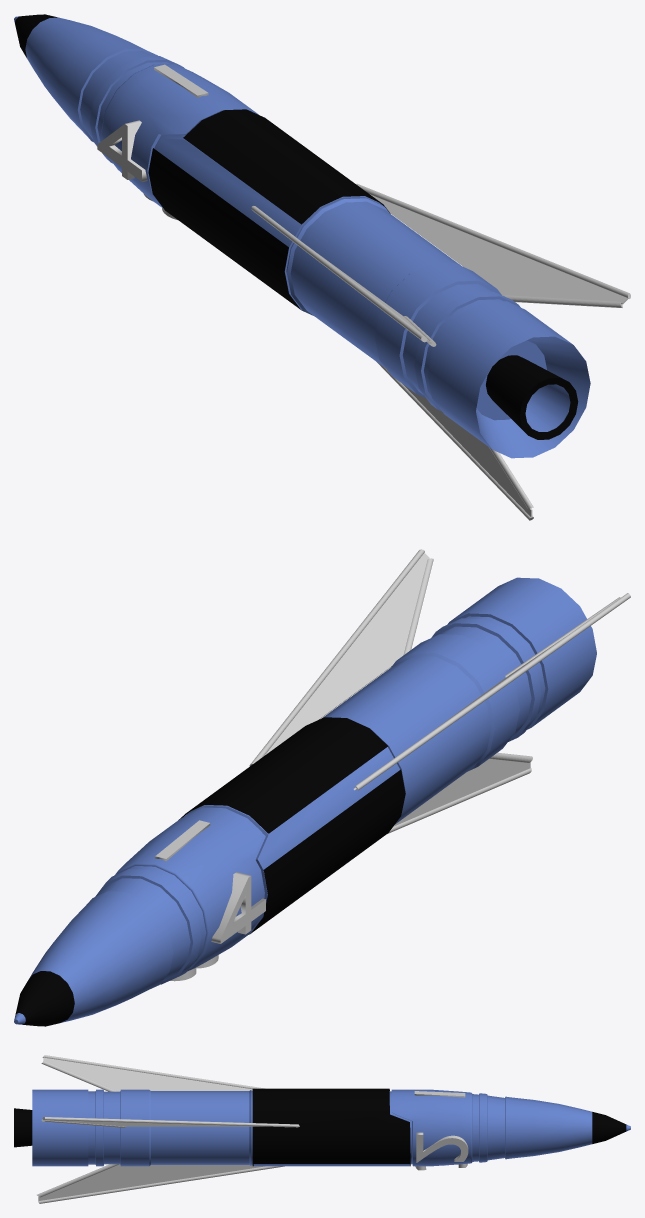
File: rakam.obj
3 renders of one model, top to bottom at view 1: azimuth 30°, elevation 25°; view 2: azimuth 150°, elevation 25°; view 3: azimuth 270°, elevation 25°, orthographic. The views are drawn at different scales.
Visible parts, largest first — view 1: Plane, Plane.010_Plane.006, Cylinder.004_Cylinder.005, Plane.008_Plane.010, Cylinder, Cylinder.001_Cylinder.004, Text.003_Text.004; view 2: Plane, Plane.010_Plane.006, Cylinder.004_Cylinder.005, Cylinder, Plane.011_Plane.007, Cylinder.001_Cylinder.004, Text.003_Text.004, Text_Text.001; view 3: Plane, Plane.010_Plane.006, Cylinder, Cylinder.001_Cylinder.004, Cylinder.004_Cylinder.005, Plane.011_Plane.007, Text.002_Text.003, Plane.008_Plane.010, Text_Text.001.
Boxes of the visible parts, x1,y1,x2,y2 form: Plane: [14, 16, 590, 458]; Plane.010_Plane.006: [148, 109, 390, 310]; Cylinder.004_Cylinder.005: [356, 183, 630, 307]; Plane.008_Plane.010: [486, 355, 578, 439]; Cylinder: [377, 362, 533, 520]; Cylinder.001_Cylinder.004: [251, 206, 436, 346]; Text.003_Text.004: [97, 120, 147, 181]; Plane: [14, 577, 596, 1024]; Plane.010_Plane.006: [179, 717, 405, 934]; Cylinder.004_Cylinder.005: [249, 549, 433, 766]; Cylinder: [387, 752, 532, 833]; Plane.011_Plane.007: [15, 971, 74, 1026]; Cylinder.001_Cylinder.004: [353, 593, 630, 790]; Text.003_Text.004: [211, 872, 265, 943]; Text_Text.001: [155, 820, 210, 861]; Plane: [32, 1089, 630, 1166]; Plane.010_Plane.006: [252, 1088, 410, 1166]; Cylinder: [37, 1164, 284, 1203]; Cylinder.001_Cylinder.004: [41, 1055, 264, 1091]; Cylinder.004_Cylinder.005: [41, 1117, 299, 1127]; Plane.011_Plane.007: [592, 1112, 626, 1143]; Text.002_Text.003: [416, 1132, 468, 1162]; Plane.008_Plane.010: [14, 1108, 32, 1147]; Text_Text.001: [414, 1091, 465, 1097].
Size of the model in its own units: 1.06 by 0.9947 by 4.66.
